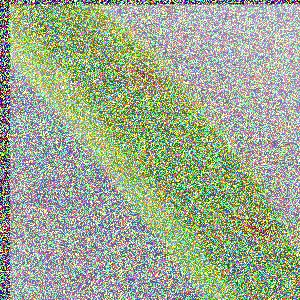Bacterial_Leaf_Blight: (240, 208, 285, 248), (127, 59, 162, 91)
